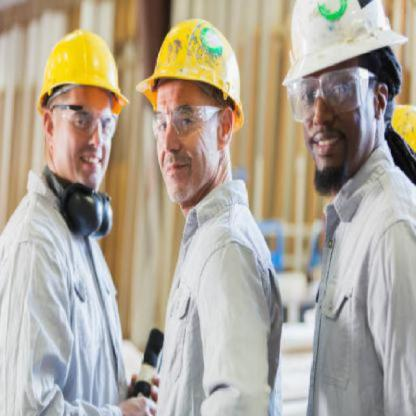glass: (275, 64, 376, 126), (143, 99, 221, 146), (52, 98, 122, 140)
person: (128, 9, 291, 415), (282, 3, 416, 414), (3, 17, 143, 409)
yellow-helm: (130, 15, 252, 129), (31, 22, 135, 120)
